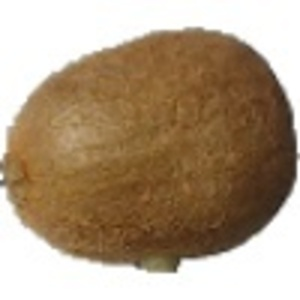kiwi: (1, 27, 300, 275)
